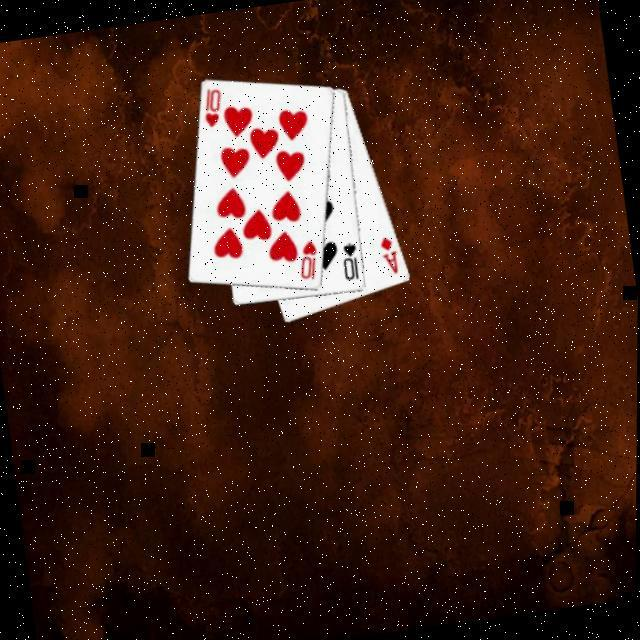10H: (296, 234, 326, 282), (200, 82, 230, 129)
10S: (340, 236, 366, 282)
AD: (379, 231, 405, 275)
